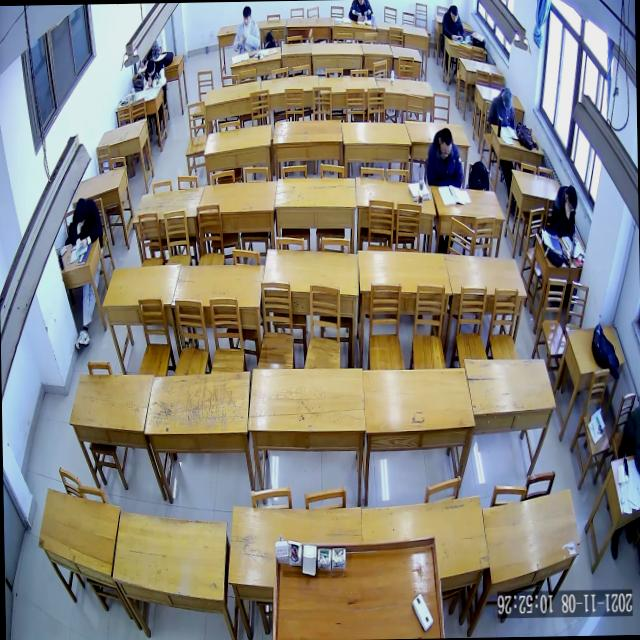bow: (232, 4, 260, 53)
down: (437, 126, 454, 160), (72, 196, 88, 226), (564, 184, 578, 214), (499, 85, 514, 112), (145, 58, 156, 78), (448, 4, 459, 24)
lookup: (241, 5, 252, 28)
sit: (424, 125, 464, 189), (66, 196, 104, 252), (548, 181, 580, 243), (486, 85, 516, 129), (141, 56, 167, 92), (442, 4, 466, 43)
